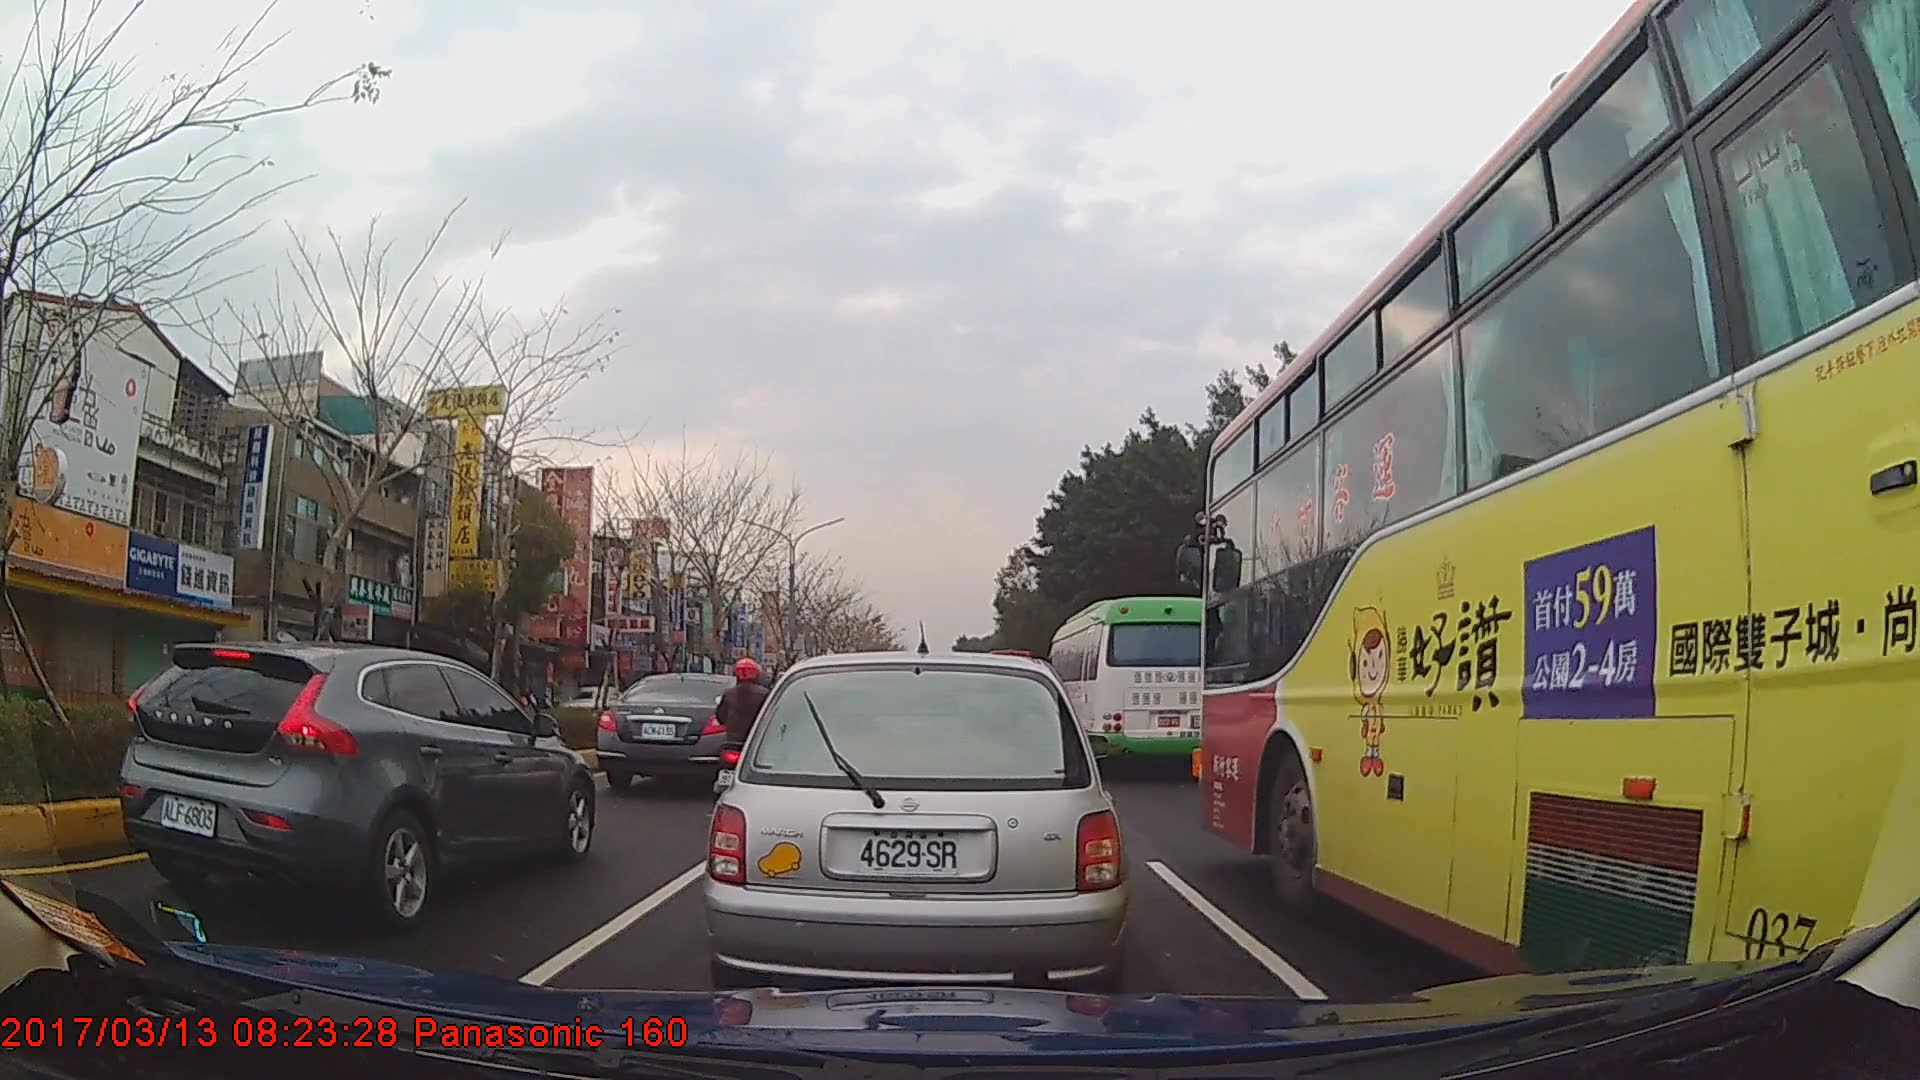rider: (714, 656, 786, 817)
vehicle: (1203, 0, 1920, 1015), (701, 648, 1128, 993), (113, 639, 594, 930), (1051, 595, 1219, 781), (598, 671, 766, 794)
